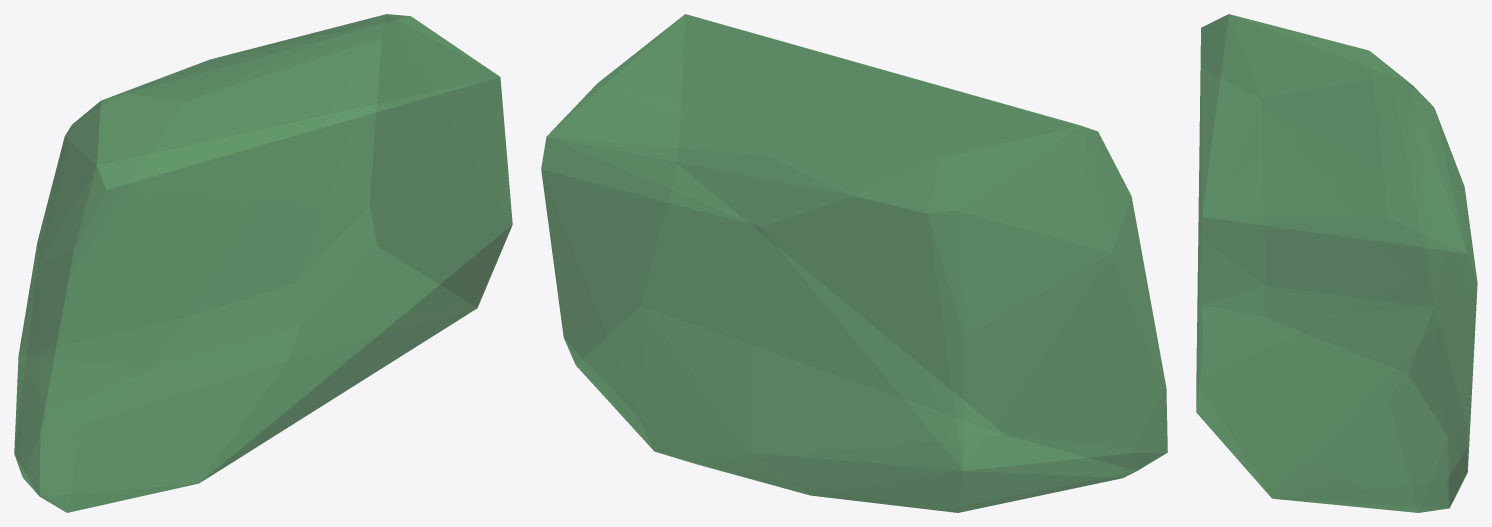
3 views of the same model, side by side, from view 1: azimuth 30°, elevation 25°; view 2: azimuth 150°, elevation 25°; view 3: azimuth 270°, elevation 25° (orthographic). The views are drawn at different scales.
Parts seen in each view (by area): view 1: Shape_IndexedFaceSet.003_Shape_IndexedFaceSet.14050; view 2: Shape_IndexedFaceSet.003_Shape_IndexedFaceSet.14050; view 3: Shape_IndexedFaceSet.003_Shape_IndexedFaceSet.14050.
Part boxes in pixels (left/top/right/bottom): Shape_IndexedFaceSet.003_Shape_IndexedFaceSet.14050: left=14, top=14, right=512, bottom=512; Shape_IndexedFaceSet.003_Shape_IndexedFaceSet.14050: left=541, top=14, right=1167, bottom=512; Shape_IndexedFaceSet.003_Shape_IndexedFaceSet.14050: left=1196, top=14, right=1477, bottom=512.
Size of the model in its own units: 0.15 by 0.1007 by 0.0722.
